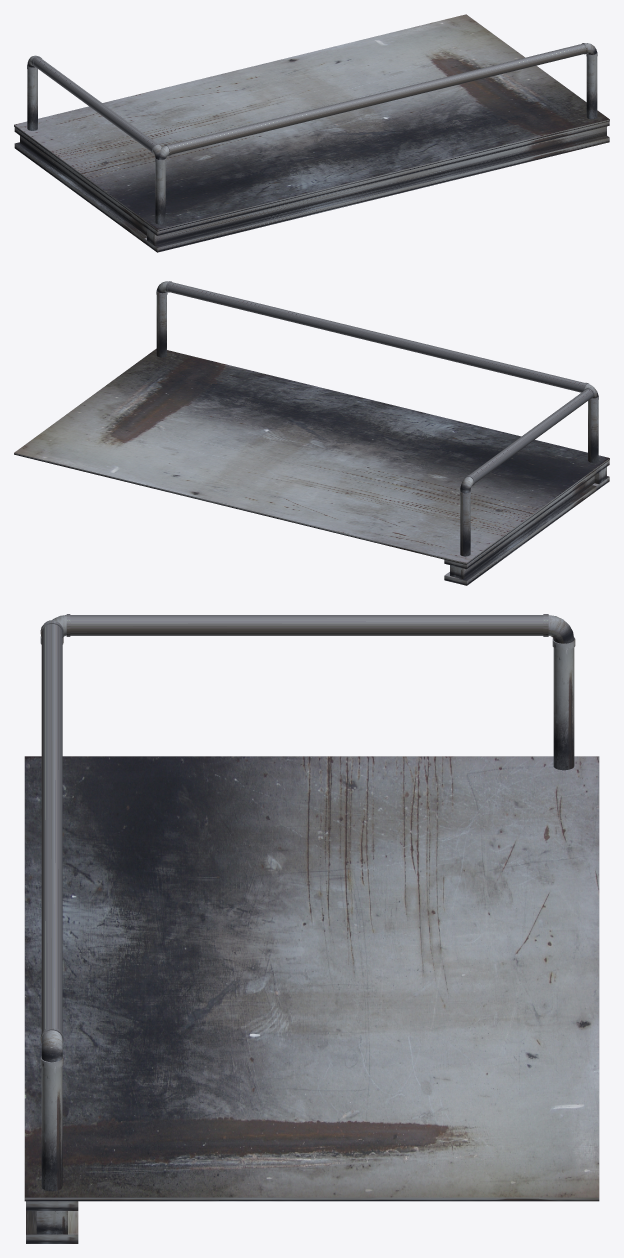
Rendered from catwalk_start_fix_2.FBX.
3 renders of one model, top to bottom at view 1: azimuth 30°, elevation 25°; view 2: azimuth 150°, elevation 25°; view 3: azimuth 270°, elevation 25°, orthographic. The views are drawn at different scales.
Visible parts, largest first — view 1: Box020, Cylinder011, Box007, Box009, Box010, Cylinder013, Box008, Box011, Cylinder010, Box012, Cylinder012, Cylinder017; view 2: Box020, Cylinder011, Cylinder013, Box008, Box011, Box012, Cylinder010, Cylinder012, Cylinder017; view 3: Box020, Cylinder013, Cylinder011, Cylinder012, Cylinder014, Box009.
Boxes of the visible parts, x1,y1,x2,y2 form: Box020: (14, 14, 609, 231); Cylinder011: (164, 43, 596, 155); Box007: (147, 126, 606, 245); Box009: (144, 135, 609, 252); Box010: (144, 121, 609, 235); Cylinder013: (27, 55, 161, 153); Box008: (14, 142, 146, 242); Box011: (20, 136, 146, 235); Cylinder010: (155, 157, 166, 224); Box012: (14, 127, 144, 226); Cylinder012: (27, 64, 37, 130); Cylinder017: (586, 52, 597, 119); Box020: (14, 348, 609, 564); Cylinder011: (157, 281, 588, 392); Cylinder013: (460, 387, 594, 493); Box008: (444, 485, 596, 585); Box011: (450, 476, 594, 579); Box012: (444, 470, 596, 569); Cylinder010: (588, 395, 598, 462); Cylinder012: (459, 490, 470, 556); Cylinder017: (156, 290, 167, 357); Box020: (24, 756, 599, 1201); Cylinder013: (66, 614, 574, 643); Cylinder011: (40, 621, 63, 1062); Cylinder012: (552, 637, 575, 770); Cylinder014: (41, 1059, 62, 1191); Box009: (26, 1211, 78, 1243).
Bounding box in the file's own units: 10 × 2.08 × 5.5.
Materials: 1 (1 with a texture image).
